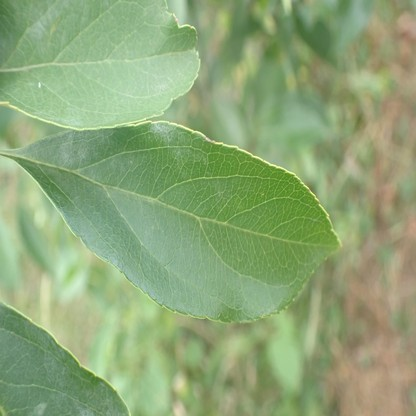powdery_mildew: (15, 127, 117, 166), (152, 122, 207, 175), (14, 0, 61, 38), (25, 321, 65, 358), (73, 391, 119, 416), (45, 361, 68, 387), (29, 401, 47, 416)
